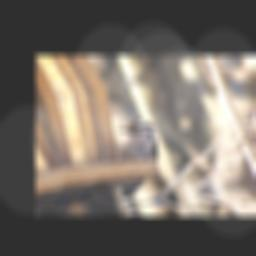Woodpecker: (56, 118, 181, 212)
